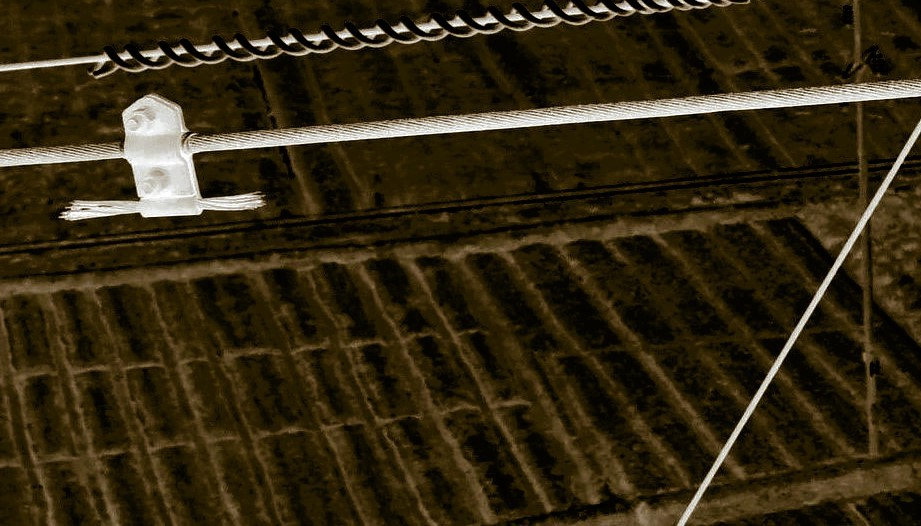Damage of shockproof hammer: (42, 80, 281, 242)
